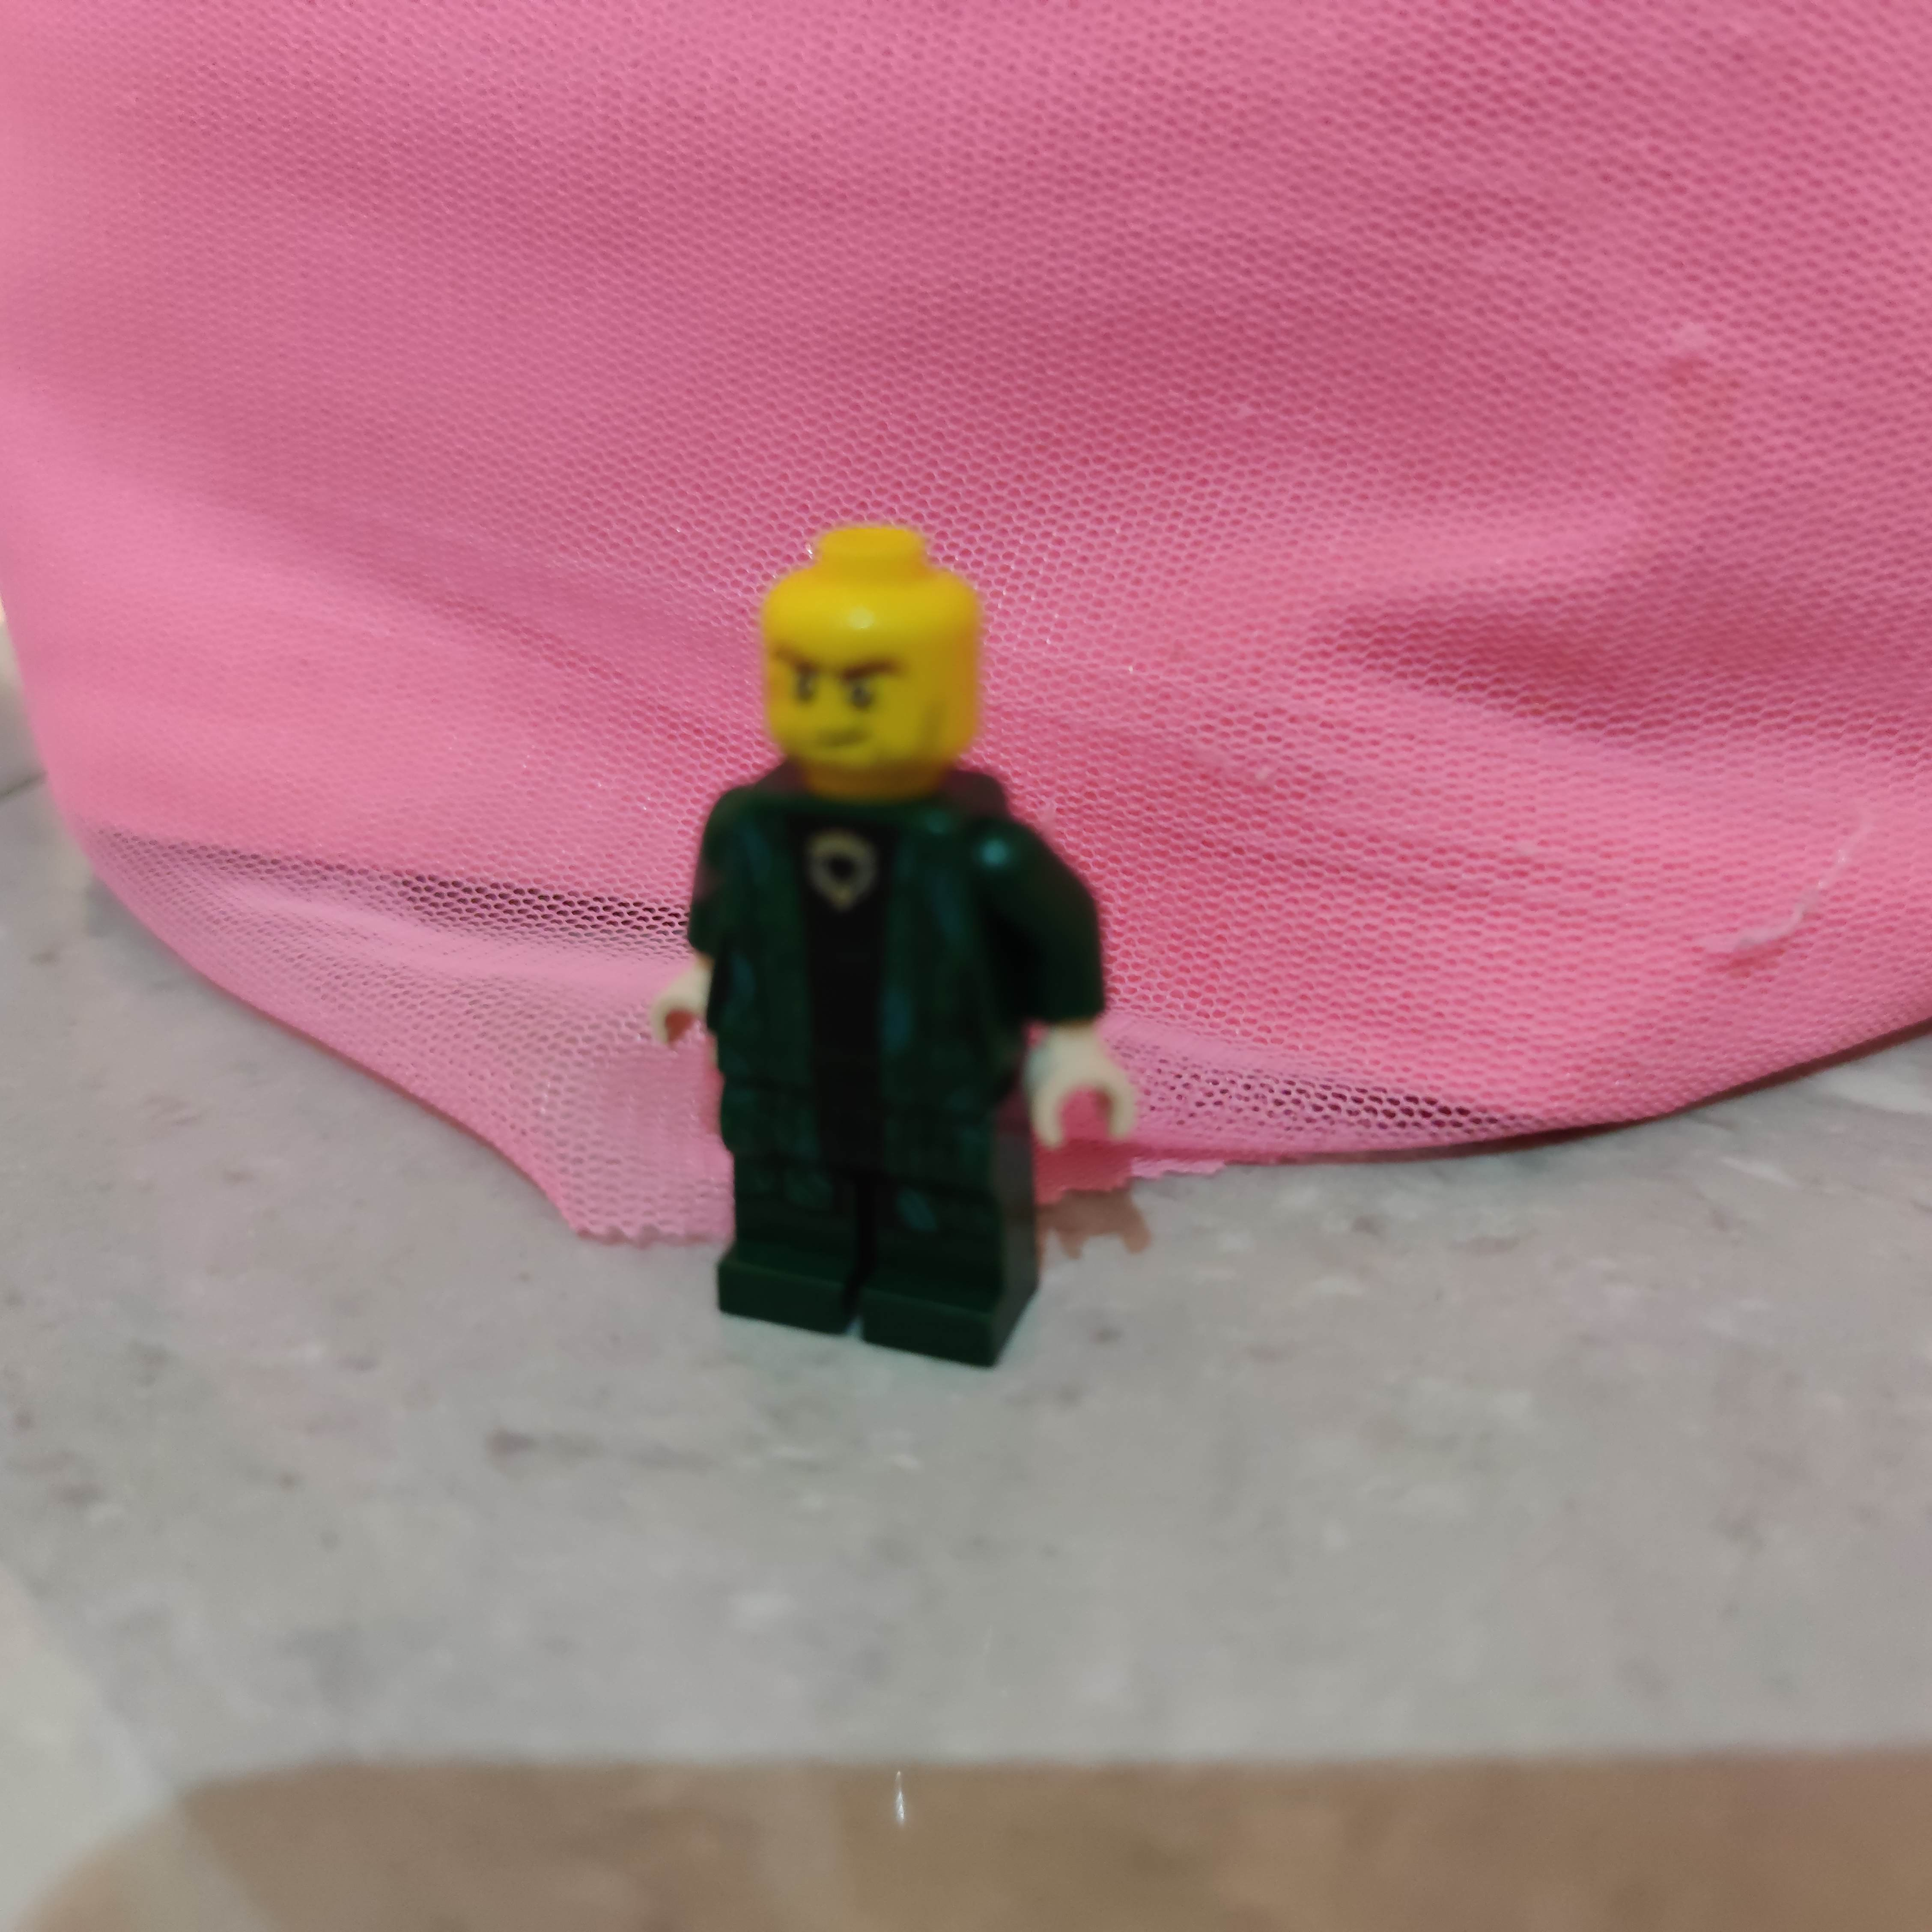lego: (637, 522, 1146, 1382)
